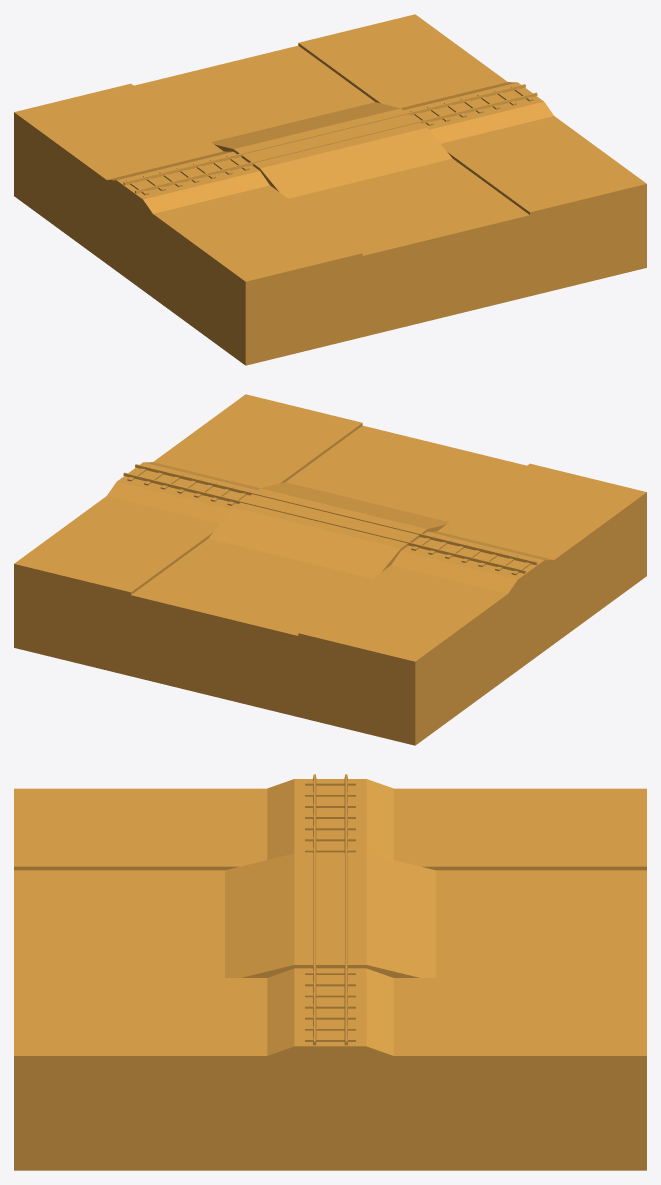
Rendered from tile-rail-mainroad-crossing.glb.
3 renders of one model, top to bottom at view 1: azimuth 30°, elevation 25°; view 2: azimuth 150°, elevation 25°; view 3: azimuth 270°, elevation 25°, orthographic. The views are drawn at different scales.
Parts seen in each view (by area): view 1: tile-rail-mainroad-crossing; view 2: tile-rail-mainroad-crossing; view 3: tile-rail-mainroad-crossing.
Boxes of the visible parts, x1,y1,x2,y2 form: tile-rail-mainroad-crossing: [14, 14, 646, 365]; tile-rail-mainroad-crossing: [14, 394, 646, 745]; tile-rail-mainroad-crossing: [14, 774, 646, 1170].
Size of the model in its own units: 30 by 6.75 by 30.
